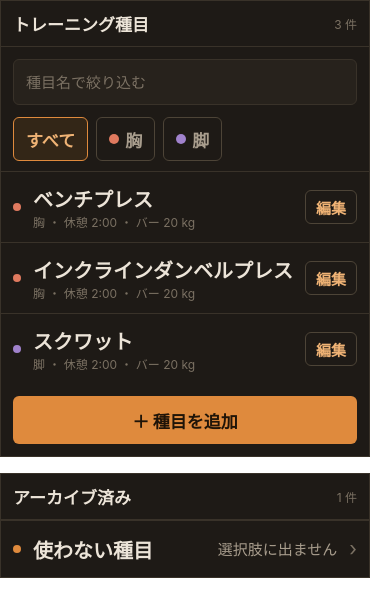
Test: 一覧 › 種目名で絞り込む
The image size is (387, 595).
Type "インクライン" into the field with placeholder "種目名で絞り込む" at [185, 82], box [13, 59, 357, 105]
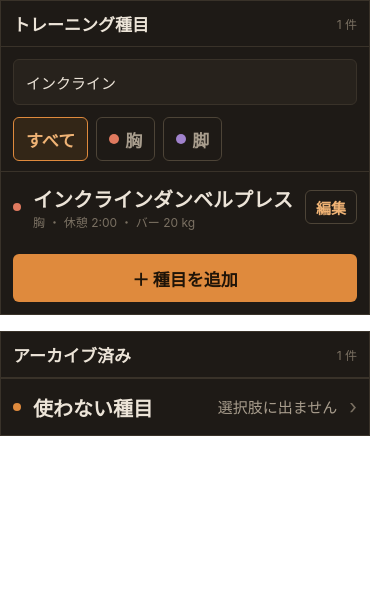
expect the text "インクラインダンベルプレス" is shown: met, box [33, 184, 293, 213]
expect the text "ベンチプレス" is gone: met
